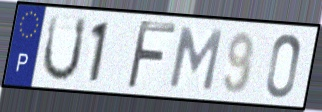0: (264, 32, 303, 101)
1: (88, 20, 114, 84)
9: (222, 29, 259, 96)
F: (124, 18, 178, 92)
M: (166, 25, 226, 94)
U: (40, 13, 89, 84)
